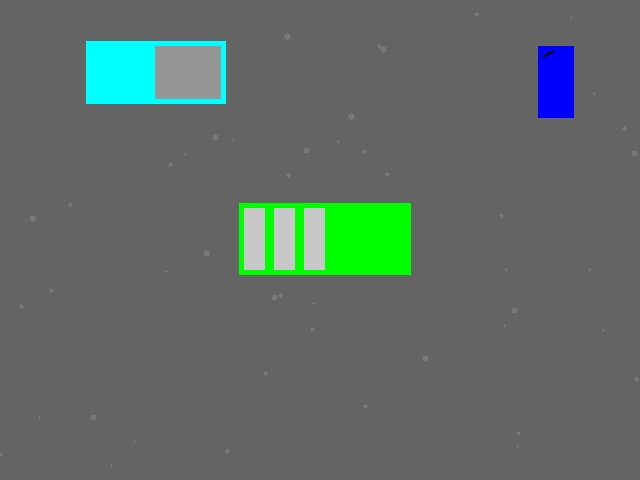bus: (239, 203, 410, 274)
motorcycle: (538, 46, 573, 117)
truck: (86, 41, 225, 103)
